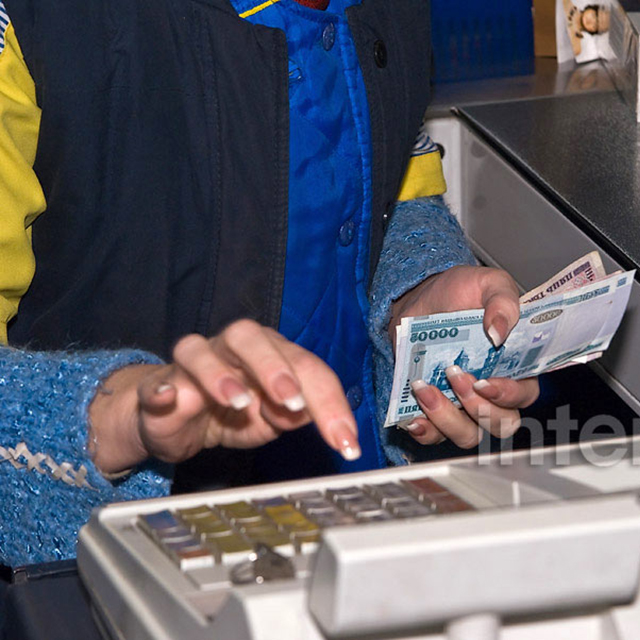banknotes: (383, 250, 635, 428)
